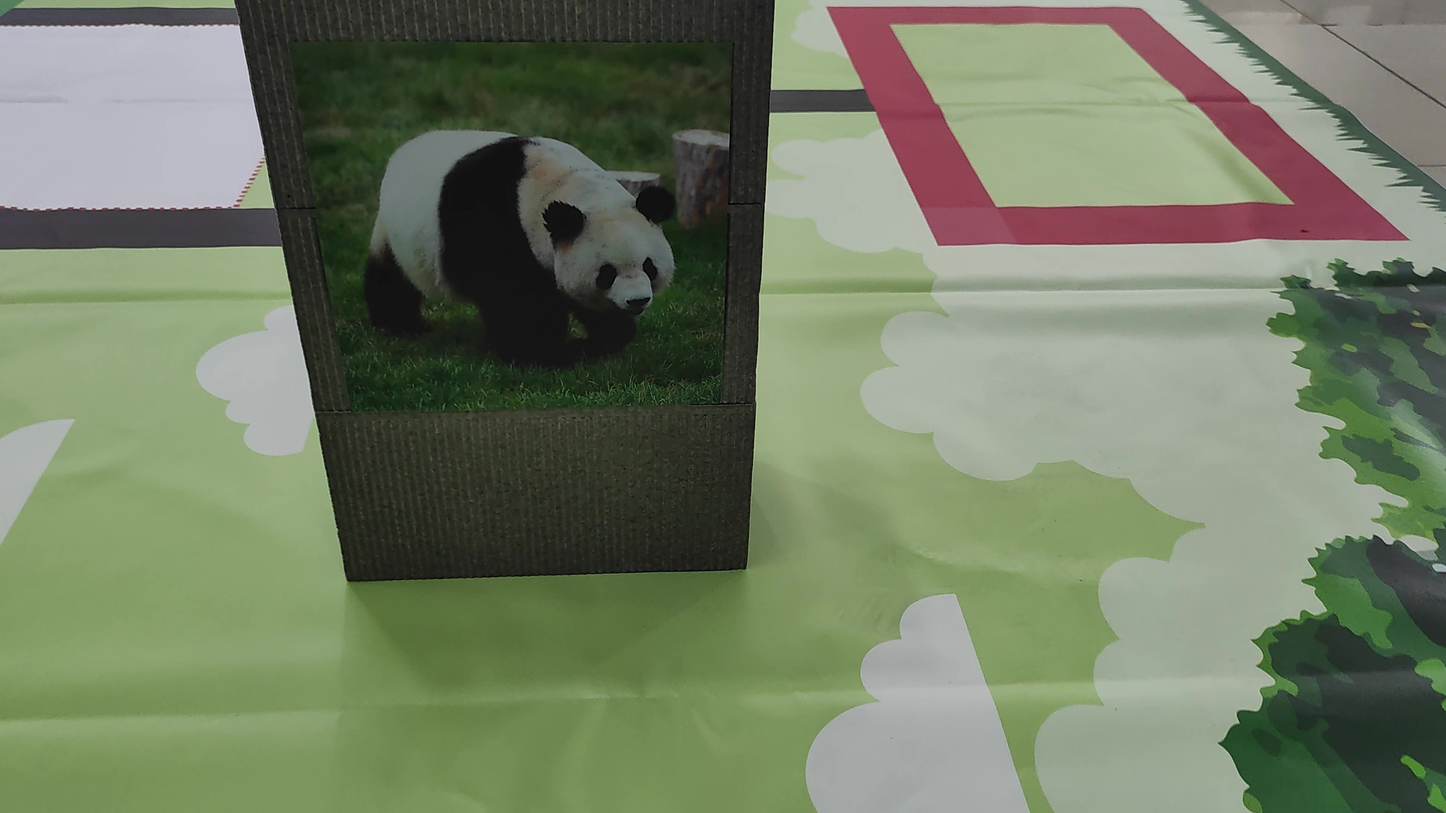panda: (351, 129, 668, 369)
